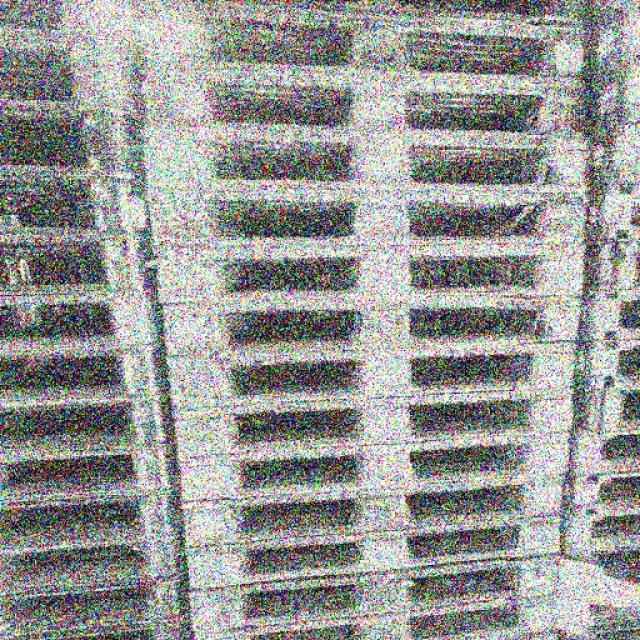igps: (136, 51, 598, 162), (127, 0, 593, 90), (128, 119, 598, 206), (174, 464, 581, 557), (160, 333, 586, 419), (180, 504, 569, 598), (172, 424, 585, 512), (155, 284, 590, 367), (182, 549, 576, 640), (170, 380, 582, 467), (148, 231, 594, 311), (140, 179, 597, 253), (187, 582, 565, 640), (0, 524, 194, 603), (0, 565, 196, 640), (0, 388, 191, 461), (0, 332, 176, 411), (0, 276, 169, 358), (0, 163, 158, 249), (0, 437, 188, 509), (0, 481, 185, 554), (0, 222, 161, 302), (0, 28, 140, 118), (0, 102, 147, 185), (565, 366, 639, 440), (552, 504, 638, 564), (554, 463, 639, 521), (558, 422, 638, 482), (571, 279, 639, 348), (567, 333, 640, 390)
